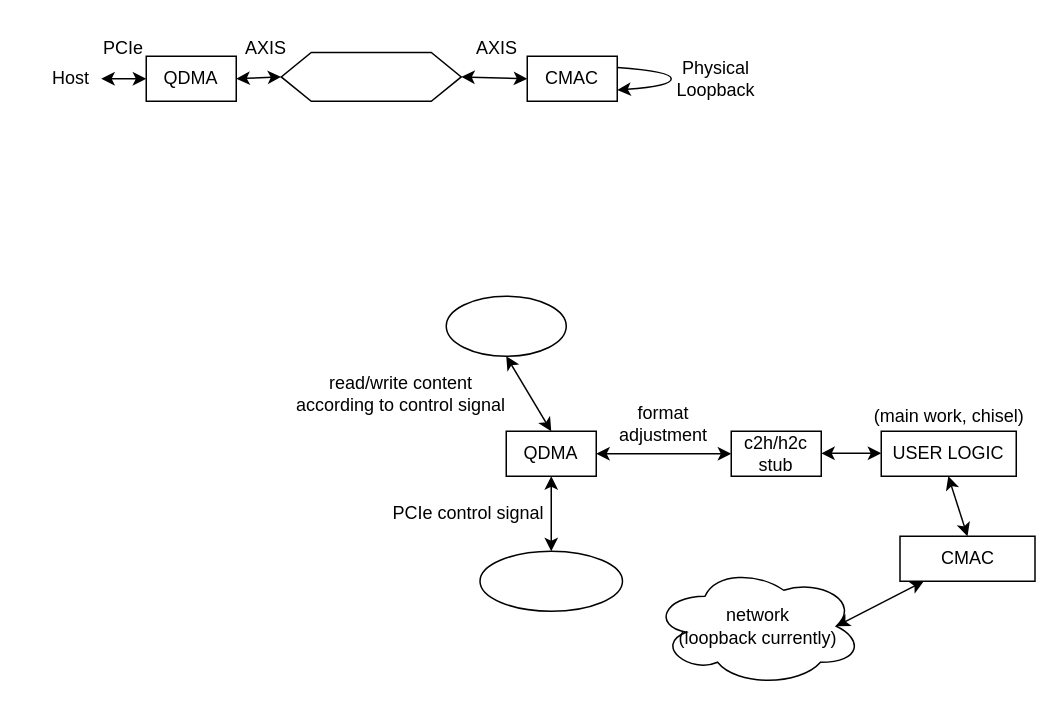
The diagram is 1061 pixels wide and 713 high, and some of its shapes have lost their labels. The shapes that lost their labels are listed below. From the top down, each one's centre as x and y in pixels, then its label:
At (370,76): "PackageHandler".
At (505,325): "host memory".
At (550,580): "host contoller (CPU)".
